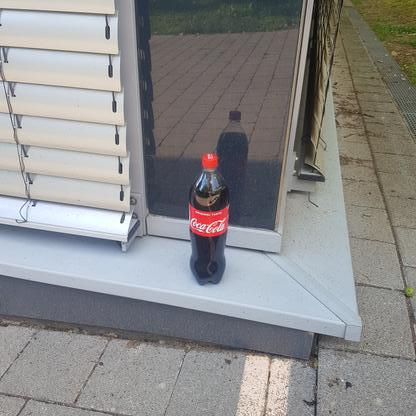coca-cola: (186, 150, 232, 288)
